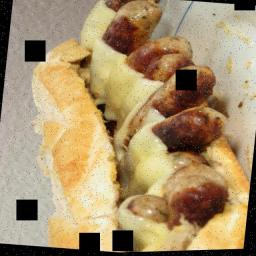hotdog: (11, 0, 256, 256)
